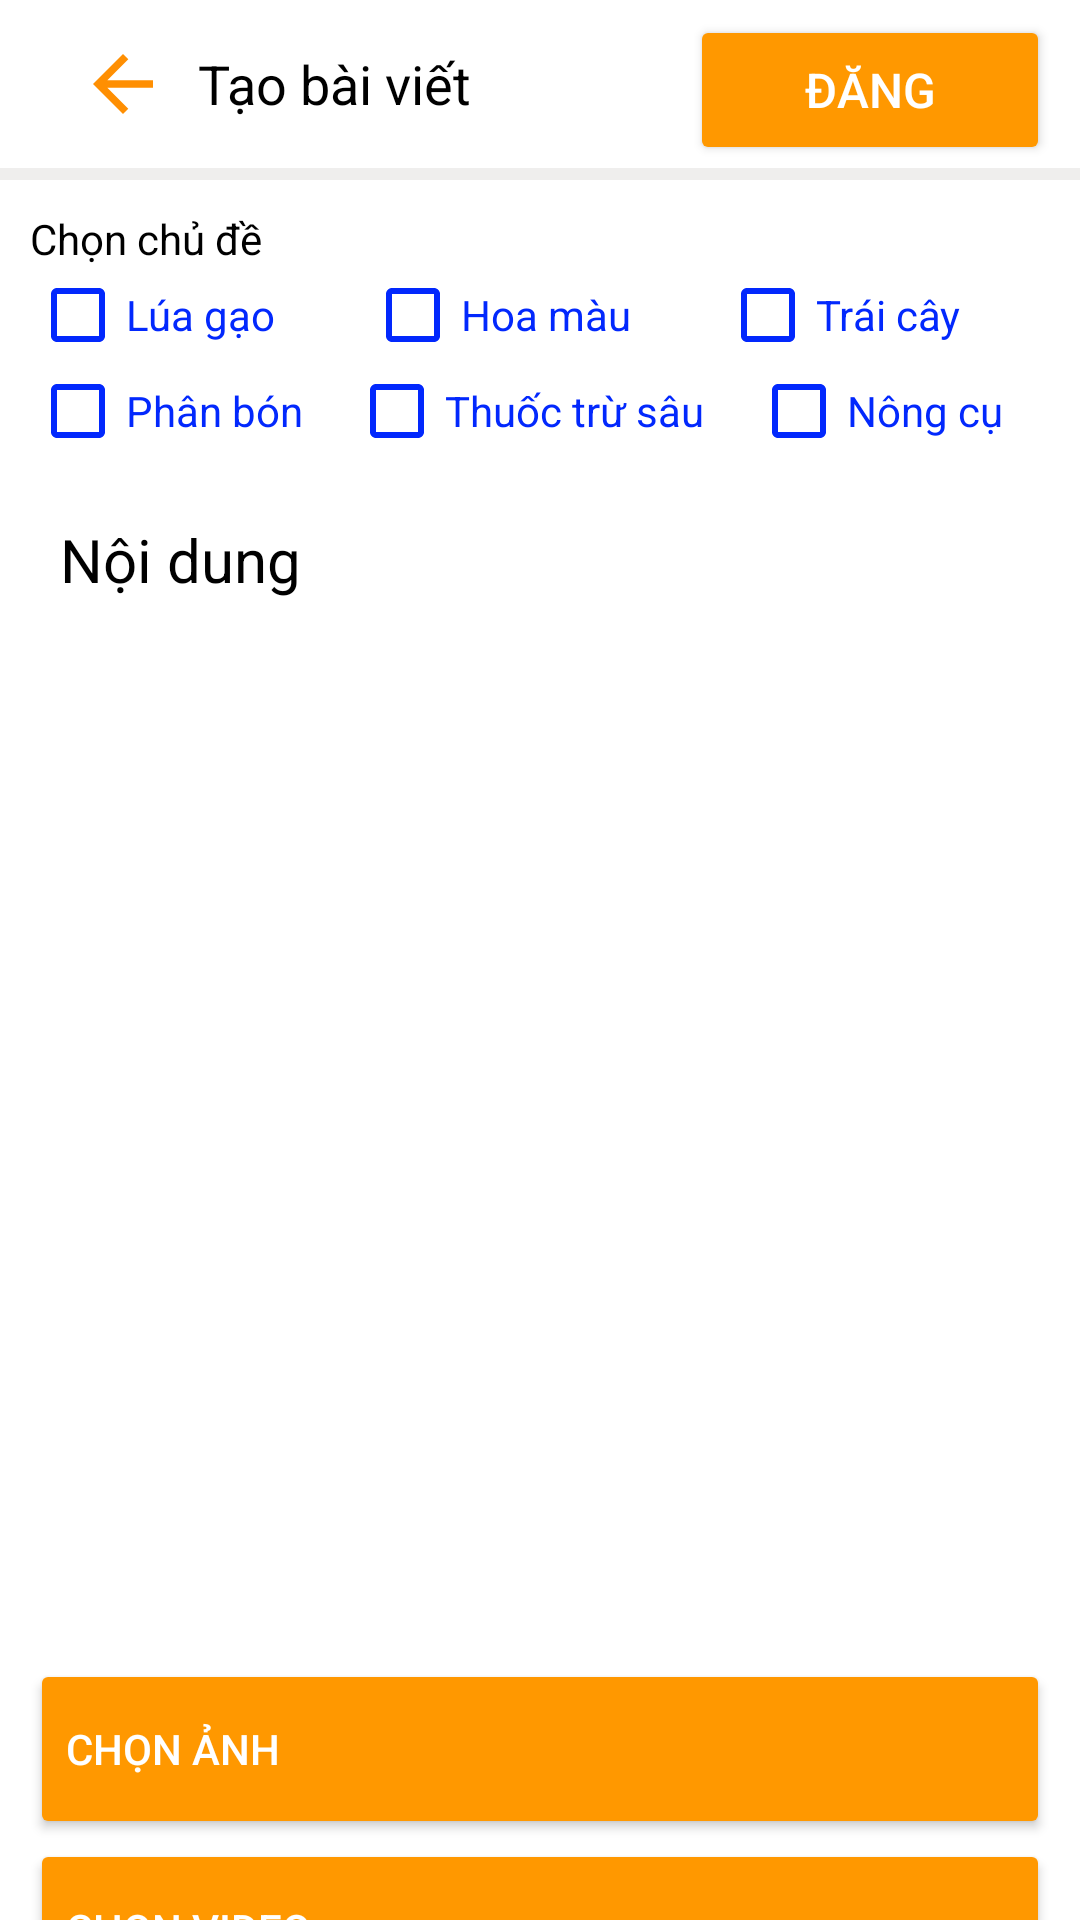

Screen size 1080 x 1920. Icon name, then its box in pixels as (x1, y1, x2, y2):
arrow back: (93, 54, 153, 114)
